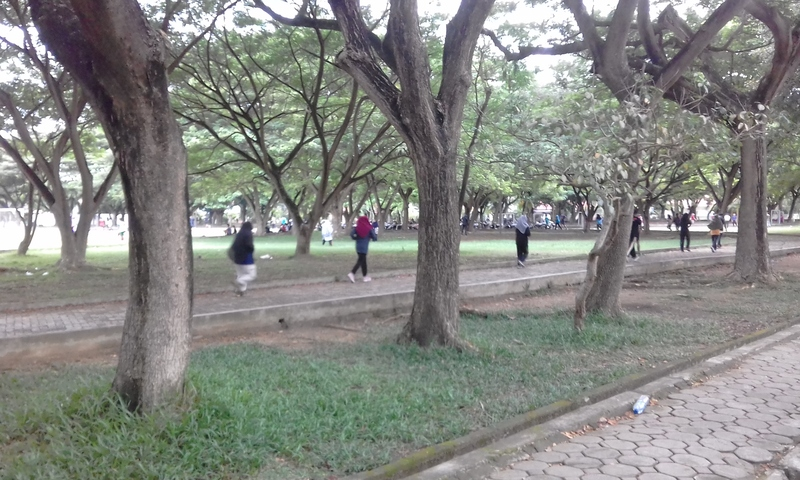person: (225, 218, 263, 301), (345, 210, 381, 287), (510, 209, 536, 272), (707, 208, 725, 257), (678, 209, 691, 253)
